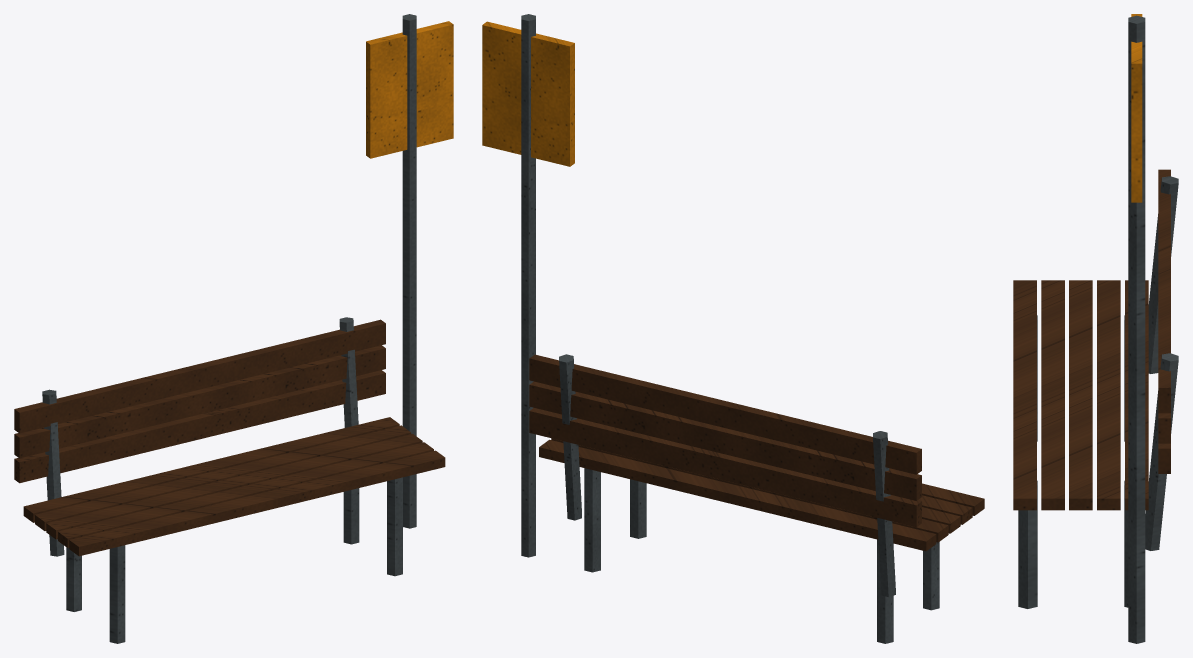
Rendered from PROP-3BF17570D415_lod2.glb.
3 renders of one model, left to right at view 1: azimuth 30°, elevation 25°; view 2: azimuth 150°, elevation 25°; view 3: azimuth 270°, elevation 25°, orthographic. The views are drawn at different scales.
Parts seen in each view (by area): view 1: back_slats.004, seat_slats.004, sign_plate.001, sign_post.001, bench_legs.004, back_support.004; view 2: back_slats.004, sign_plate.001, seat_slats.004, sign_post.001, bench_legs.004, back_support.004; view 3: seat_slats.004, sign_post.001, back_support.004, back_slats.004, bench_legs.004, sign_plate.001.
Part boxes in pixels (left/top/right/bottom): back_slats.004: left=14, top=319, right=385, bottom=483; seat_slats.004: left=23, top=417, right=445, bottom=556; sign_plate.001: left=366, top=21, right=453, bottom=158; sign_post.001: left=402, top=14, right=416, bottom=528; bench_legs.004: left=66, top=477, right=402, bottom=643; back_support.004: left=42, top=317, right=358, bottom=556; back_slats.004: left=529, top=354, right=921, bottom=527; sign_plate.001: left=482, top=21, right=574, bottom=166; seat_slats.004: left=539, top=438, right=984, bottom=551; sign_post.001: left=521, top=14, right=535, bottom=557; bench_legs.004: left=584, top=468, right=939, bottom=643; back_support.004: left=559, top=354, right=895, bottom=597; seat_slats.004: left=1013, top=280, right=1148, bottom=510; sign_post.001: left=1128, top=15, right=1145, bottom=643; back_support.004: left=1145, top=176, right=1178, bottom=550; back_slats.004: left=1158, top=169, right=1170, bottom=473; bench_legs.004: left=1018, top=315, right=1128, bottom=608; sign_plate.001: left=1131, top=14, right=1142, bottom=202.
Bounding box in the file's own units: 2.14 × 2.45 × 0.5927.
Materials: 3 (3 with a texture image).
